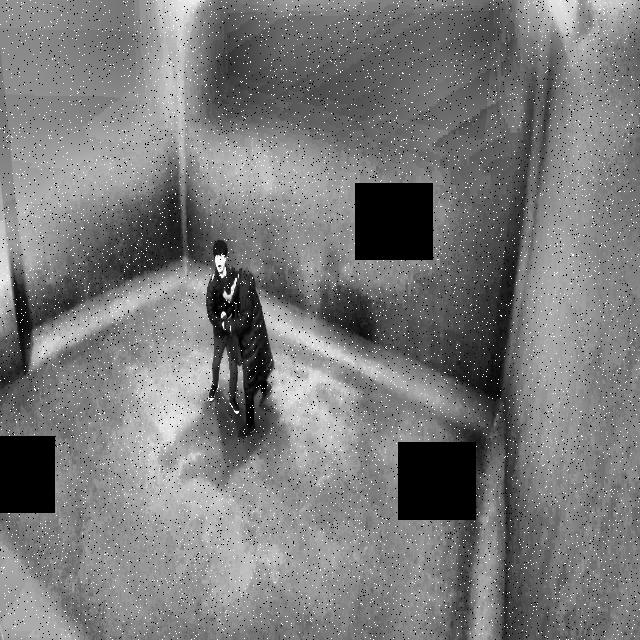assult: (202, 233, 288, 445)
